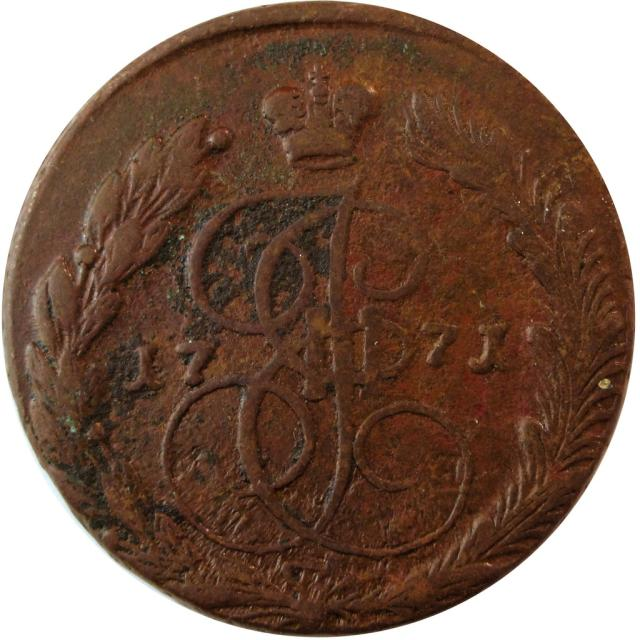Coin: (1, 0, 638, 639)
